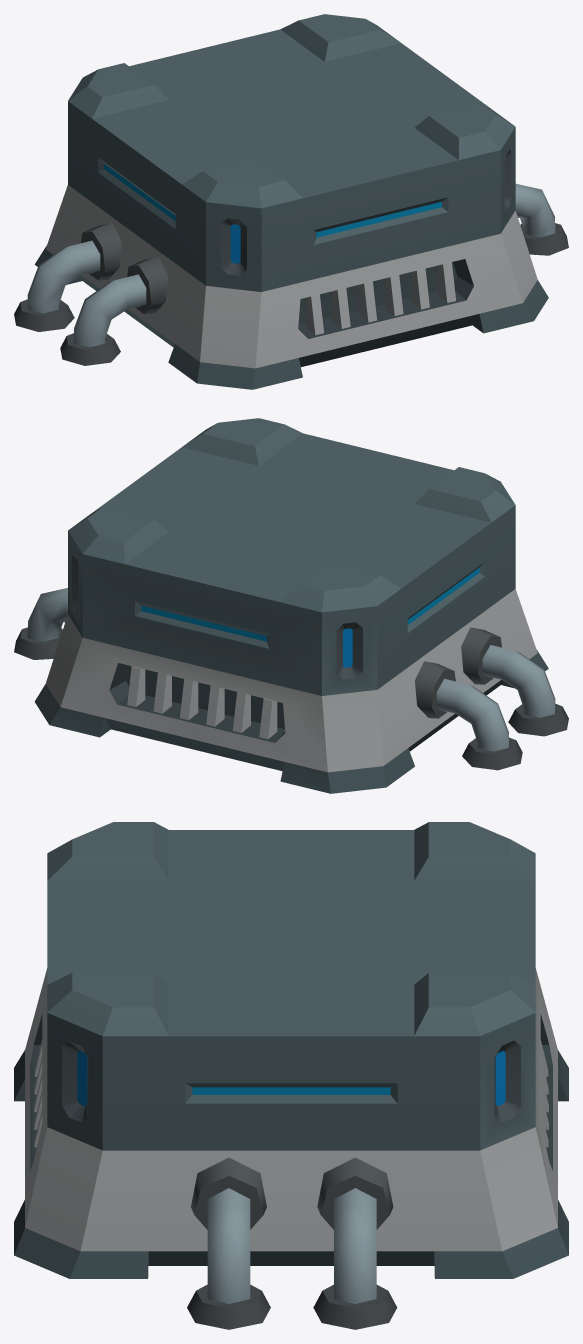
The model's file is Mini_farm_003.fbx.
3 views of the same model, one above another, from view 1: azimuth 30°, elevation 25°; view 2: azimuth 150°, elevation 25°; view 3: azimuth 270°, elevation 25° (orthographic). The views are drawn at different scales.
Parts seen in each view (by area): view 1: Mini_farm_003; view 2: Mini_farm_003; view 3: Mini_farm_003.
Boxes of the visible parts, x1=… form: Mini_farm_003: x1=14, y1=14, x2=568, y2=389; Mini_farm_003: x1=14, y1=418, x2=568, y2=793; Mini_farm_003: x1=14, y1=822, x2=568, y2=1329.
Size of the model in its own units: 158 by 110 by 54.
